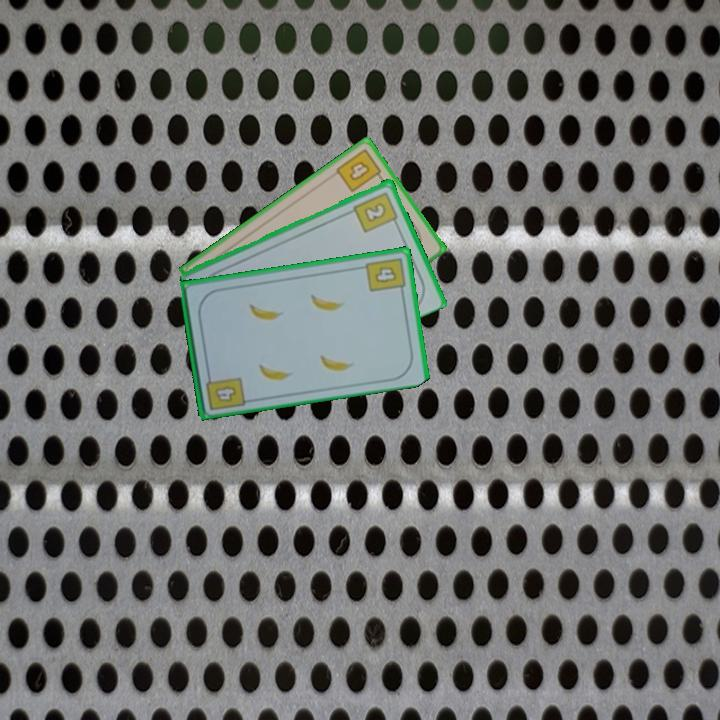2b: (350, 188, 401, 235)
4b: (332, 145, 387, 195), (202, 368, 247, 413), (362, 254, 408, 297)
